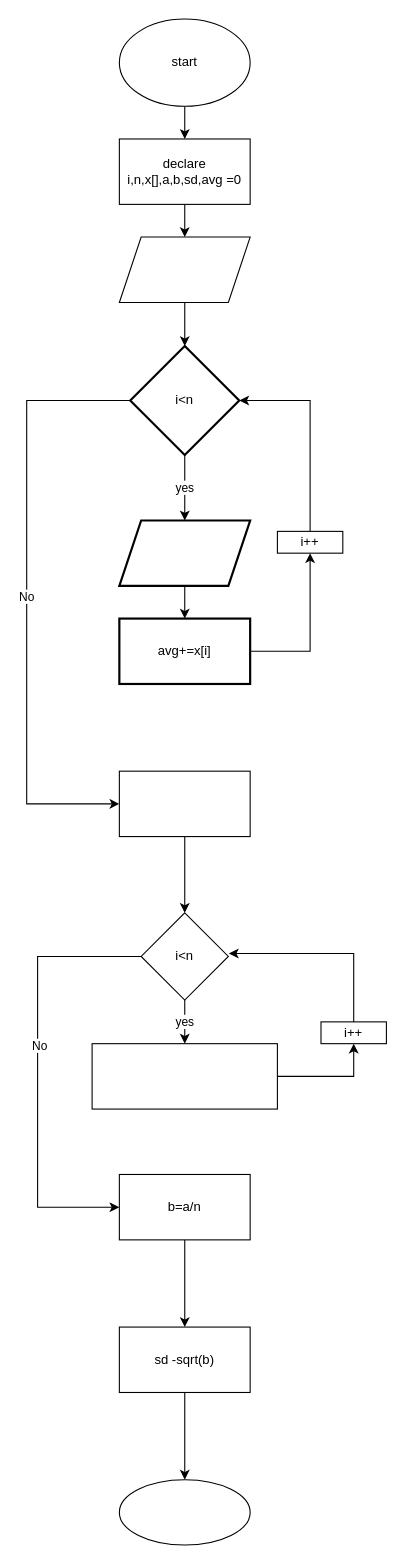
This 405x1564 diagram has some shape labels left out. Each missing label, with the box of its shape:
a+=powerOfTwo(x[i]-avg): (91, 1043, 277, 1109)
avg= avg/n, i=0: (118, 770, 250, 837)
end: (118, 1479, 250, 1545)
input n: (118, 236, 250, 302)
input x[i]: (118, 519, 251, 586)
